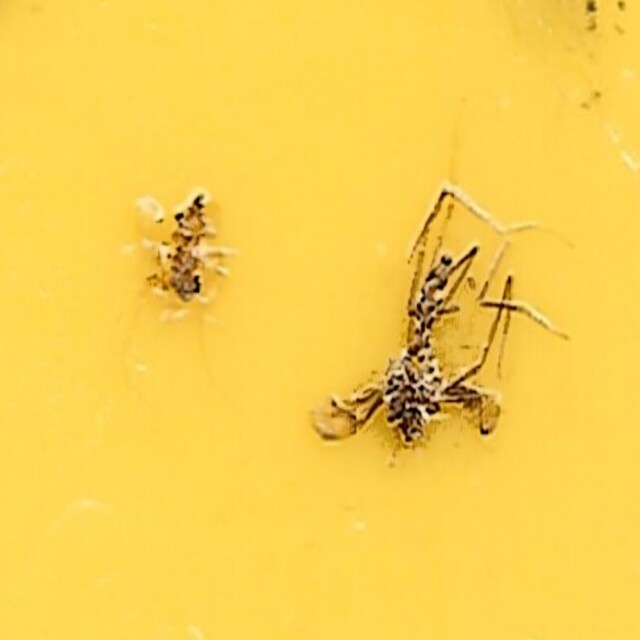Nematocera: (301, 227, 508, 451), (132, 189, 239, 321)
